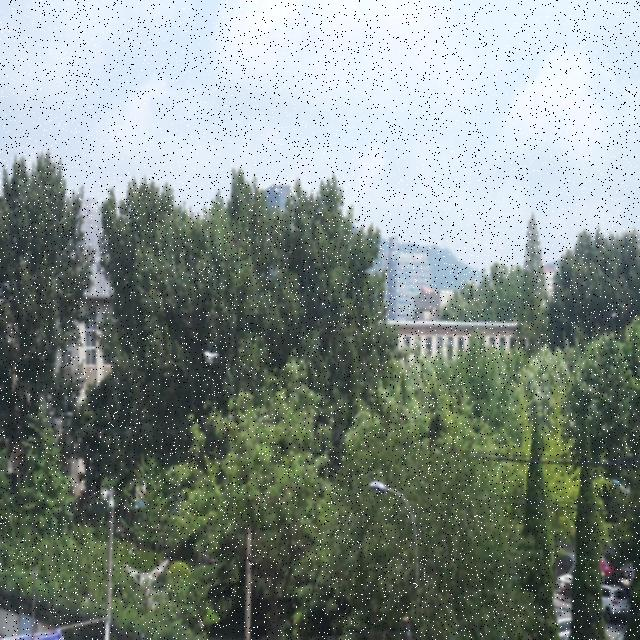UAV: (203, 352, 219, 364)
